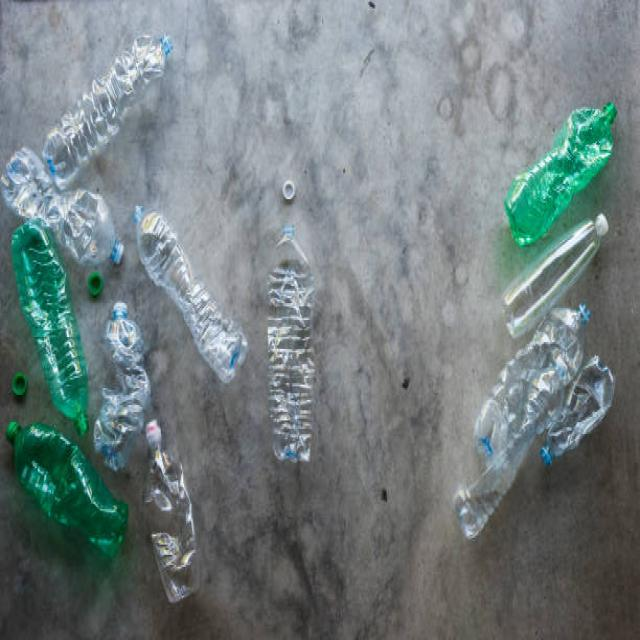plastic: (500, 106, 616, 430), (134, 199, 247, 393), (48, 38, 171, 182), (264, 220, 312, 463), (139, 424, 206, 587)
